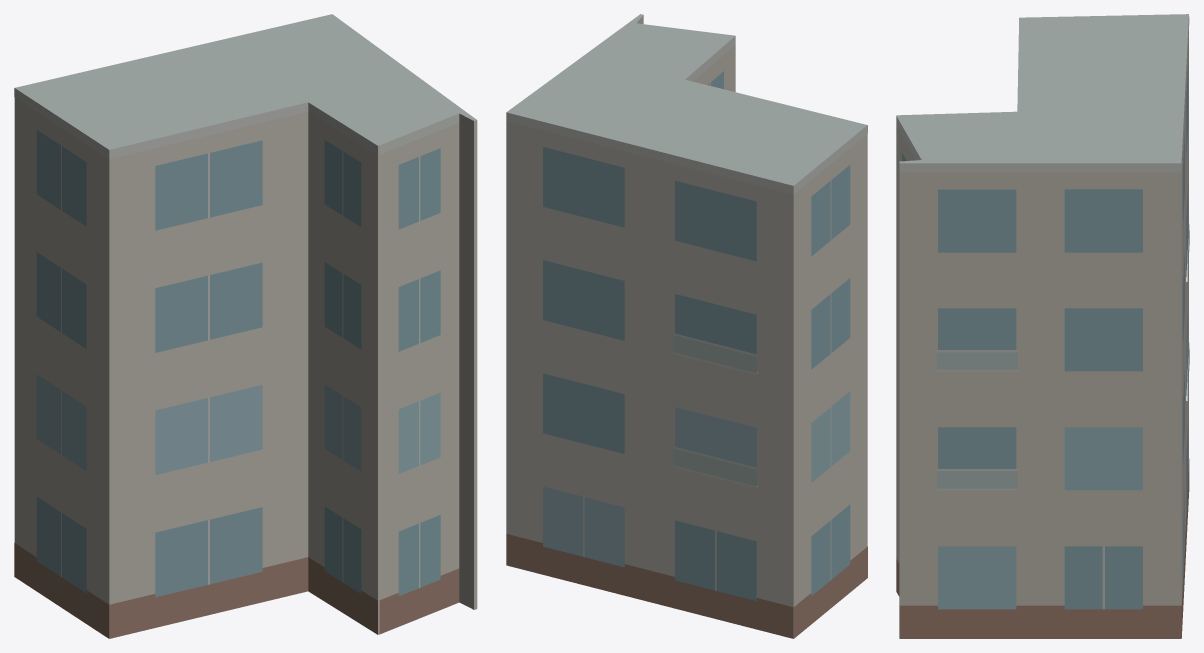
Rendered from survey-upis-32897342.glb.
The picture shows the model from 3 angles, left to right: view 1: azimuth 30°, elevation 25°; view 2: azimuth 150°, elevation 25°; view 3: azimuth 270°, elevation 25°; orthographic projection. The views are drawn at different scales.
Parts seen in each view (by area): view 1: survey-upis-32897342.tmp; view 2: survey-upis-32897342.tmp; view 3: survey-upis-32897342.tmp.
Part boxes in pixels (bbox=[...]): survey-upis-32897342.tmp: bbox=[14, 14, 477, 638]; survey-upis-32897342.tmp: bbox=[506, 14, 867, 638]; survey-upis-32897342.tmp: bbox=[896, 14, 1189, 638].
Bounding box in the file's own units: 8.58 × 12.7 × 7.1.
